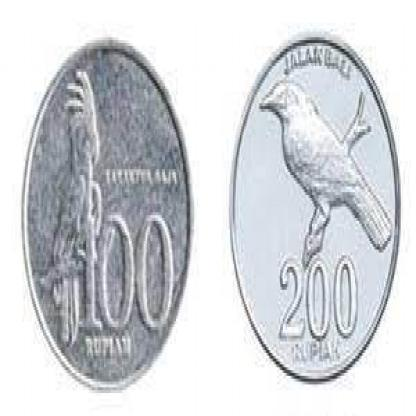coin_200_e2003: (225, 29, 402, 390)
